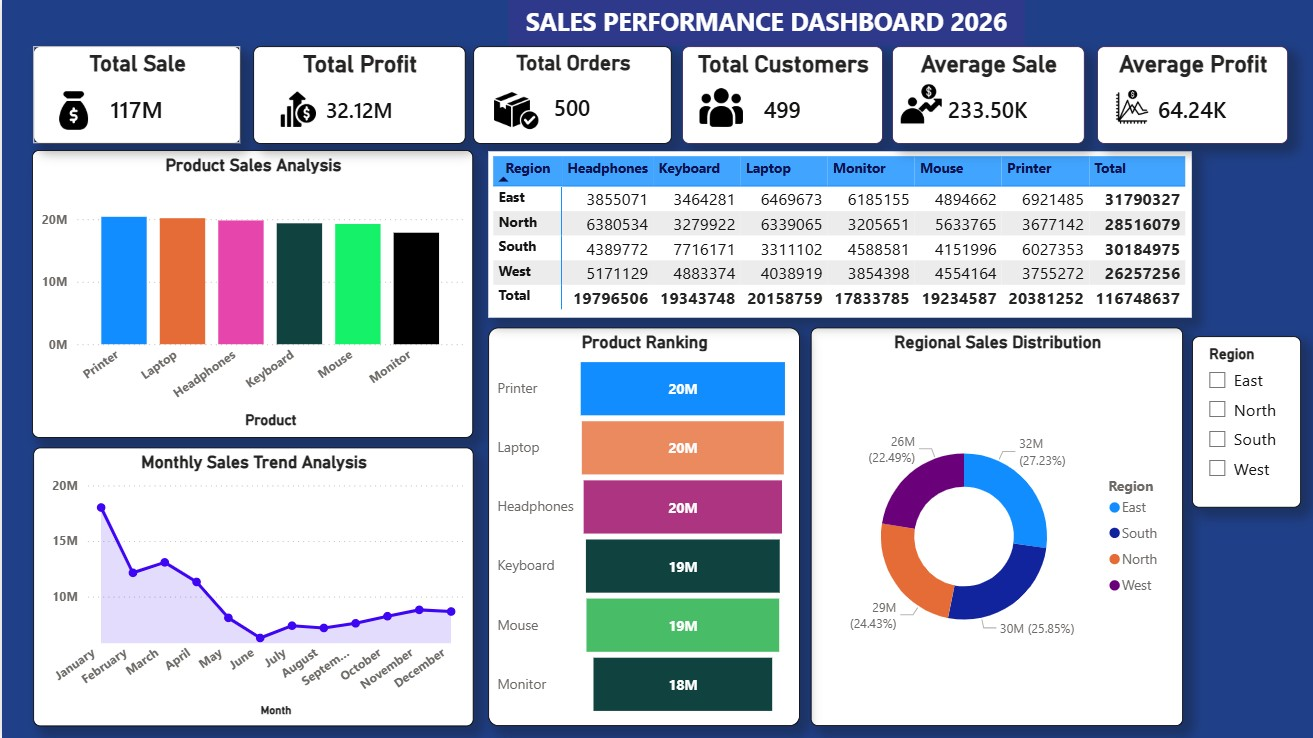

What the dashboard file says about the page in this screenshot:
{"tool":"powerbi","page":{"name":"SALES PERFORMANCE DASHBOARD 2026","canvas":[1280,720],"ordinal":0},"visuals":[{"type":"clusteredColumnChart","title":"Product Sales Analysis","fields":{"Category":["Sales_Data.Product"],"Y":["Sum(Sales_Data.Total_Sales)"]},"box":[29.3,146.3,430.5,280.5],"z":0},{"type":"lineChart","title":"Monthly Sales Trend Analysis","fields":{"Category":["Sales_Data.Order_Date.Variation.Date Hierarchy.Month"],"Y":["Sum(Sales_Data.Total_Sales)"]},"box":[30.5,436.6,429.3,272],"z":1000},{"type":"donutChart","title":"Regional Sales Distribution","fields":{"Category":["Sales_Data.Region"],"Y":["Sum(Sales_Data.Total_Sales)"]},"box":[789,319.5,363.4,389],"z":2000},{"type":"slicer","title":"Region","fields":{"Values":["Sales_Data.Region"]},"box":[1161,328,106.1,167.1],"z":3000},{"type":"cardVisual","title":"Total Sale","fields":{"Data":["Sum(Sales_Data.Total_Sales)"]},"box":[30.5,45.1,202.4,95.1],"z":4000},{"type":"cardVisual","title":"Total Profit","fields":{"Data":["Sum(Sales_Data.Profit)"]},"box":[245.1,45.1,207.3,95.1],"z":5000},{"type":"textbox","box":[493.9,0,503.7,45.1],"z":6000},{"type":"funnel","title":"Product Ranking","fields":{"Category":["Sales_Data.Product"],"Y":["Sum(Sales_Data.Total_Sales)"]},"box":[474.4,319.5,303.7,389],"z":7000},{"type":"image","box":[46.3,89,47.6,37.8],"z":8000},{"type":"image","box":[272,87.8,34.1,37.8],"z":9000},{"type":"cardVisual","title":"Total Orders","fields":{"Data":["Count(Sales_Data.Order_ID)"]},"box":[459.8,45.1,193.9,95.1],"z":10000},{"type":"cardVisual","title":"Total Customers","fields":{"Data":["Count(Sales_Data.Customer_Name)"]},"box":[663.4,45.1,196.3,95.1],"z":11000},{"type":"image","box":[479.3,68.3,45.1,79.3],"z":12000},{"type":"image","box":[680.5,81.7,42.7,46.3],"z":13000},{"type":"pivotTable","fields":{"Rows":["Sales_Data.Region"],"Columns":["Sales_Data.Product"],"Values":["Sum(Sales_Data.Total_Sales)"]},"box":[474.4,147.6,686.6,162.2],"z":14001},{"type":"cardVisual","title":"Average Sale","fields":{"Data":["Avg(Sales_Data.Total_Sales)"]},"box":[868.3,45.1,187.8,95.1],"z":14002},{"type":"cardVisual","title":"Average Profit","fields":{"Data":["Avg(Sales_Data.Profit)"]},"box":[1068.3,45.1,186.6,95.1],"z":14003},{"type":"image","box":[1082.9,85.4,39,37.8],"z":14004},{"type":"image","box":[876.8,80.5,40.2,41.5],"z":14005}]}

Visuals, with their boxes in screenshot pixels (x1, y1, x2, y2), scaled from the page's 1280x720 canvas onto the 1313x738 screenshot:
"Product Sales Analysis" clusteredColumnChart: <bbox>30, 150, 472, 437</bbox>
"Monthly Sales Trend Analysis" lineChart: <bbox>31, 448, 472, 726</bbox>
"Regional Sales Distribution" donutChart: <bbox>809, 327, 1182, 726</bbox>
"Region" slicer: <bbox>1191, 336, 1300, 507</bbox>
"Total Sale" cardVisual: <bbox>31, 46, 239, 144</bbox>
"Total Profit" cardVisual: <bbox>251, 46, 464, 144</bbox>
textbox: <bbox>507, 0, 1023, 46</bbox>
"Product Ranking" funnel: <bbox>487, 327, 798, 726</bbox>
image: <bbox>47, 91, 96, 130</bbox>
image: <bbox>279, 90, 314, 129</bbox>
"Total Orders" cardVisual: <bbox>472, 46, 671, 144</bbox>
"Total Customers" cardVisual: <bbox>681, 46, 882, 144</bbox>
image: <bbox>492, 70, 538, 151</bbox>
image: <bbox>698, 84, 742, 131</bbox>
pivotTable - Sales_Data.Region x Sales_Data.Product: <bbox>487, 151, 1191, 318</bbox>
"Average Sale" cardVisual: <bbox>891, 46, 1083, 144</bbox>
"Average Profit" cardVisual: <bbox>1096, 46, 1287, 144</bbox>
image: <bbox>1111, 88, 1151, 126</bbox>
image: <bbox>899, 83, 941, 125</bbox>
